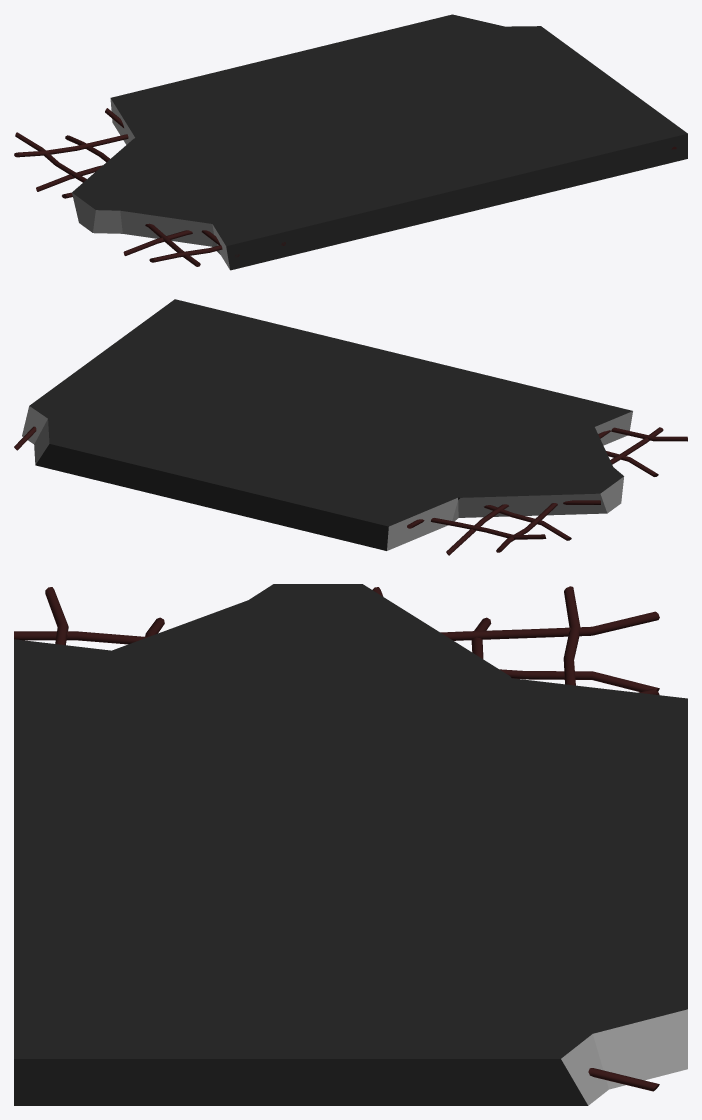
Rendered from P_MurCassé1.fbx.
The picture shows the model from 3 angles, top to bottom: view 1: azimuth 30°, elevation 25°; view 2: azimuth 150°, elevation 25°; view 3: azimuth 270°, elevation 25°; orthographic projection. The views are drawn at different scales.
Visible parts, largest first — view 1: P_MurCassé1; view 2: P_MurCassé1; view 3: P_MurCassé1.
Boxes of the visible parts, x1,y1,x2,y2 form: P_MurCassé1: (14, 14, 687, 270); P_MurCassé1: (14, 299, 687, 555); P_MurCassé1: (14, 584, 687, 1105).
Size of the model in its own units: 657 by 30 by 390.
